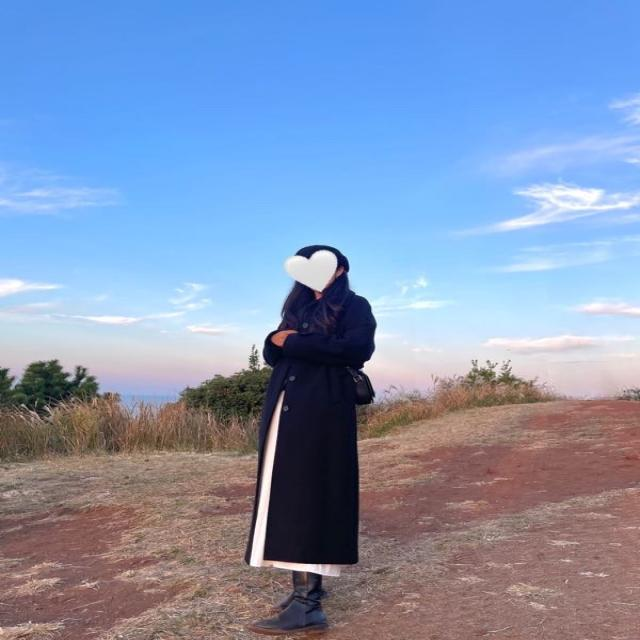coat: (242, 285, 378, 567)
